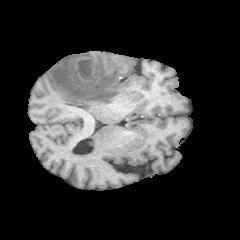glioma: (50, 51, 125, 106)
